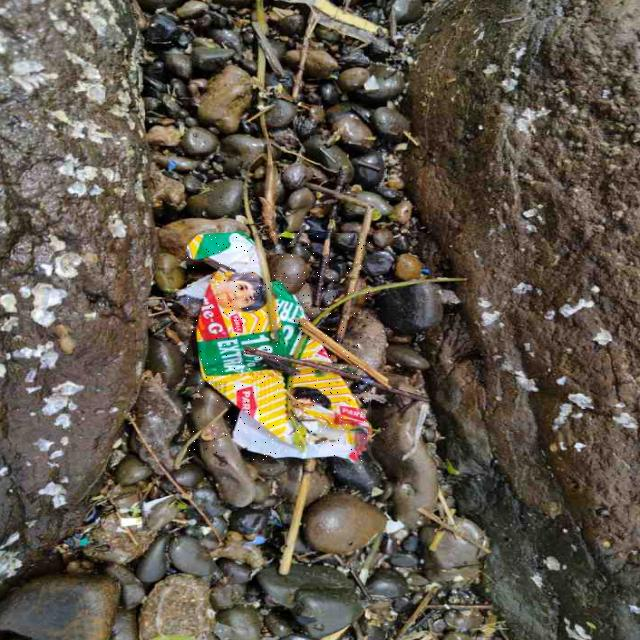wrapper: (187, 233, 370, 461)
